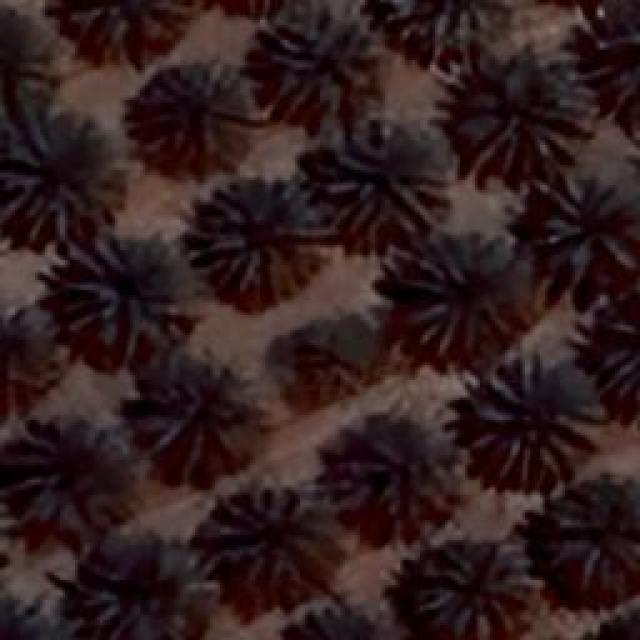PalmTree: (448, 45, 590, 175), (322, 406, 462, 534), (468, 358, 602, 488), (134, 360, 274, 482), (208, 496, 346, 612), (180, 185, 312, 300), (320, 118, 448, 232), (0, 121, 118, 241), (72, 537, 207, 640), (62, 238, 182, 352), (9, 431, 139, 534), (258, 5, 380, 113), (534, 476, 638, 602), (402, 235, 508, 355), (415, 534, 535, 638), (137, 71, 260, 169), (273, 308, 386, 412), (569, 1, 640, 142), (542, 170, 630, 275), (59, 0, 199, 65), (375, 0, 505, 62), (587, 284, 640, 407), (7, 305, 65, 413), (0, 9, 50, 109), (278, 599, 384, 640), (0, 579, 70, 640), (212, 0, 330, 23)
